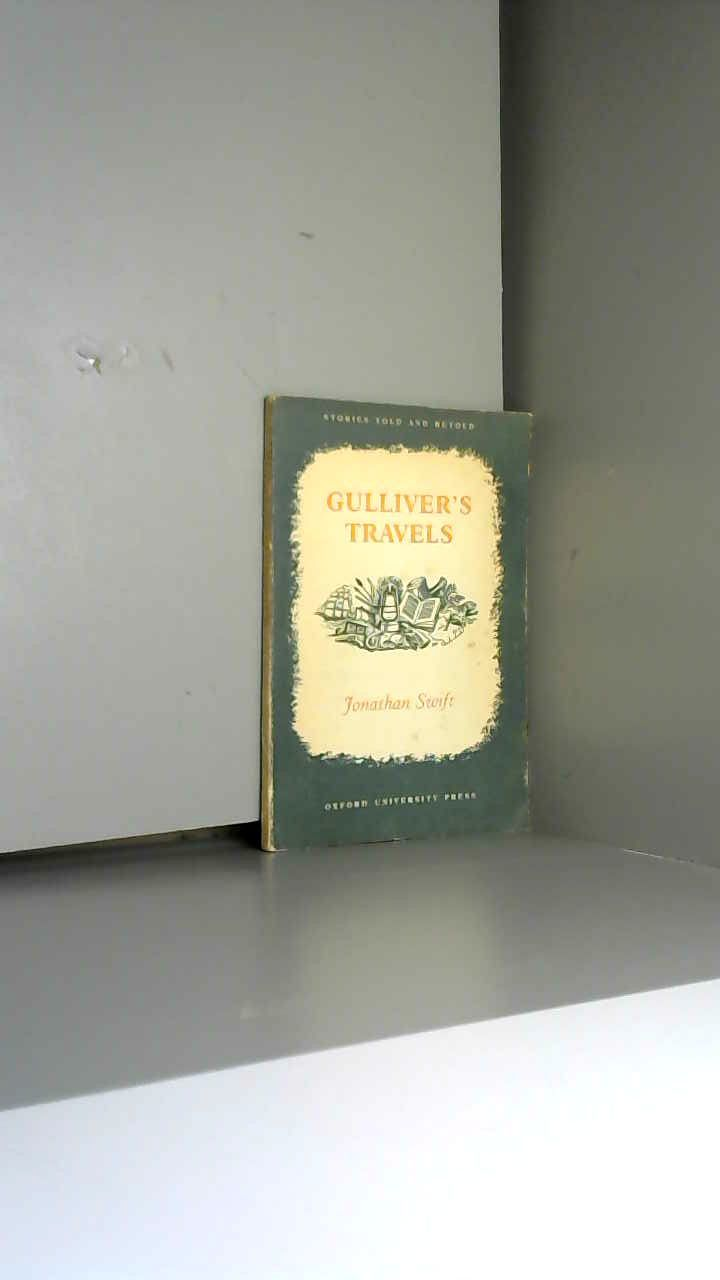book: (217, 347, 591, 908)
